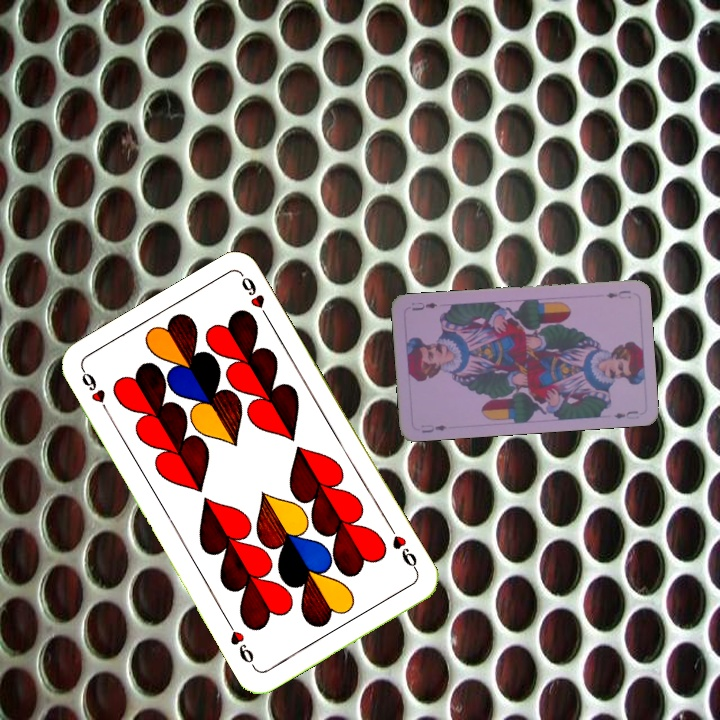EU: (417, 420, 449, 435), (602, 286, 633, 301)
H9: (77, 366, 114, 420), (385, 522, 421, 575)
